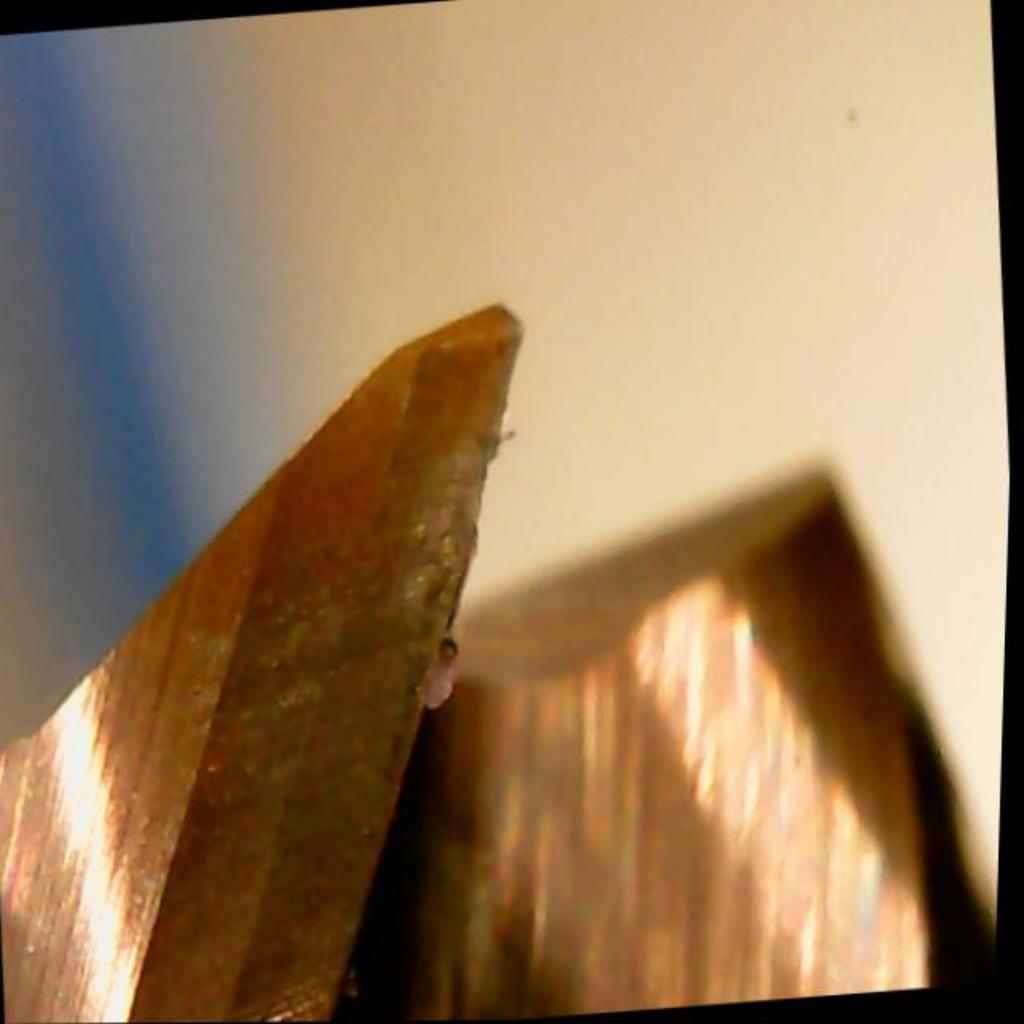Tool-wear-class-1: (295, 286, 579, 579)
